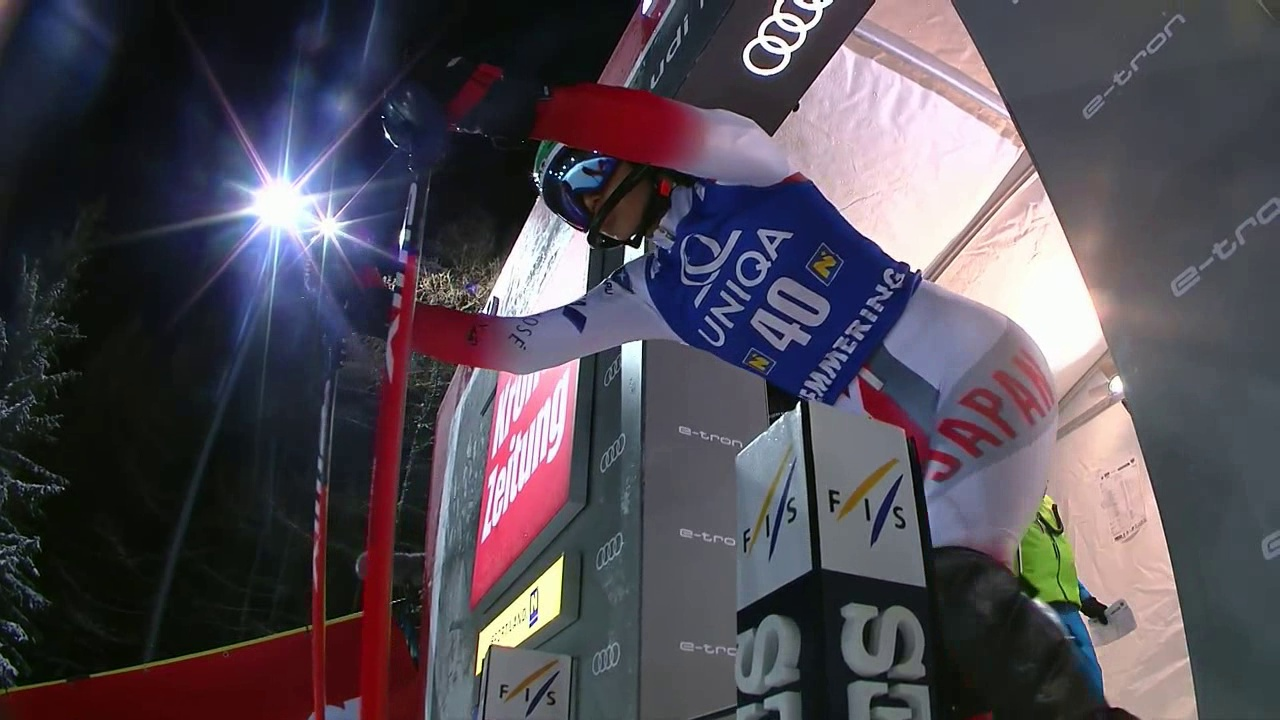audi: (738, 1, 858, 84), (586, 634, 630, 683), (591, 527, 630, 577), (595, 431, 633, 479), (1103, 515, 1155, 550)
etron: (674, 633, 740, 662), (678, 520, 732, 547)
